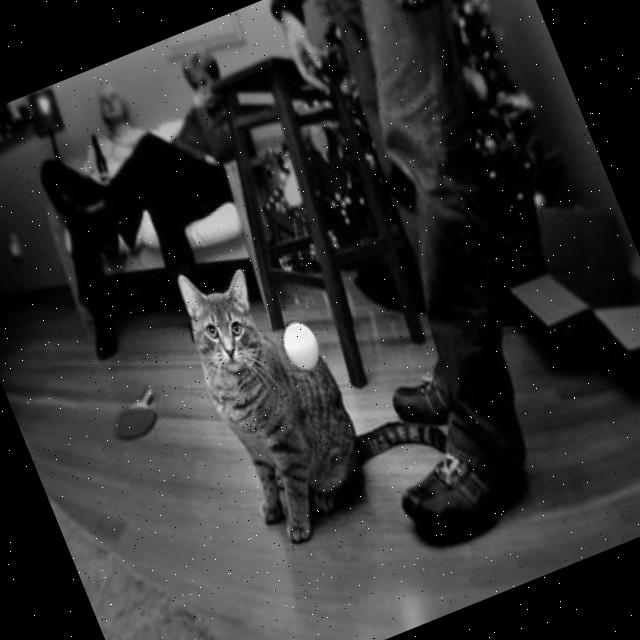ping-pong-ball: (274, 314, 326, 374)
